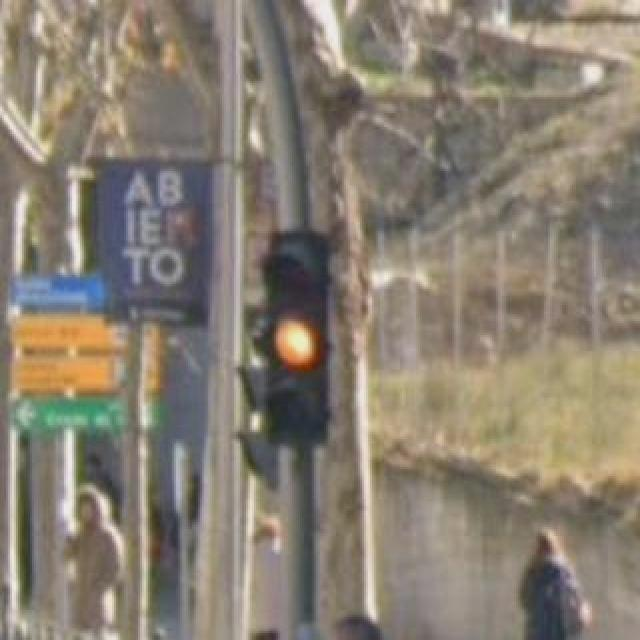Yellow: (267, 234, 327, 438)
